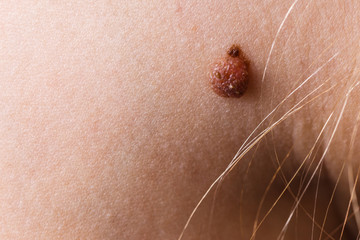melanoma: (195, 29, 272, 112)
